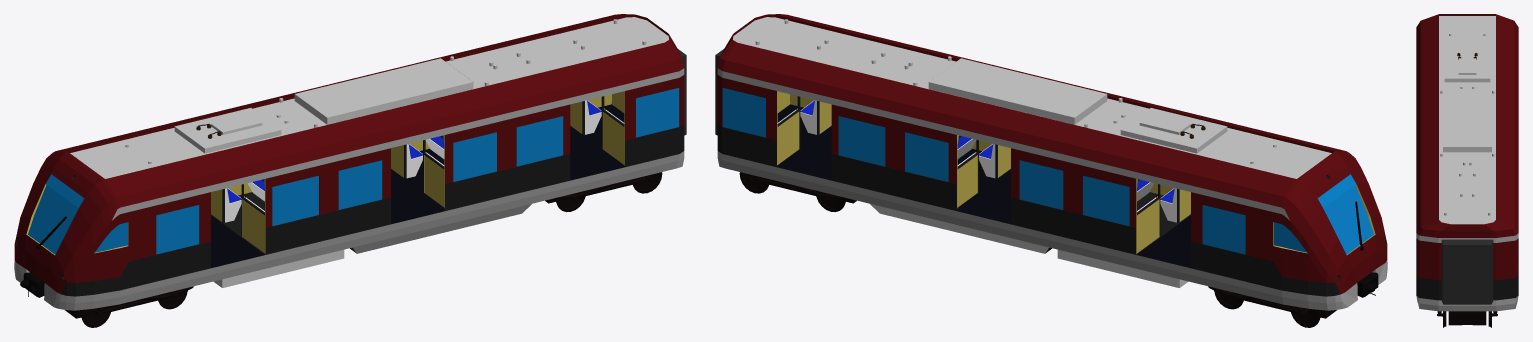
Rendered from Wagon_1_WithDriverStand.obj.
The picture shows the model from 3 angles, left to right: view 1: azimuth 30°, elevation 25°; view 2: azimuth 150°, elevation 25°; view 3: azimuth 270°, elevation 25°; orthographic projection. The views are drawn at different scales.
Parts seen in each view (by area): view 1: Wagon_Cube.001, Cube; view 2: Wagon_Cube.001, Cube; view 3: Wagon_Cube.001.
Boxes of the visible parts, x1,y1,x2,y2 form: Wagon_Cube.001: (14,14,686,327); Cube: (20,216,67,297); Wagon_Cube.001: (715,14,1387,327); Cube: (1355,201,1378,297); Wagon_Cube.001: (1416,14,1518,327).
Size of the model in its own units: 16.9 by 3.88 by 3.07.
